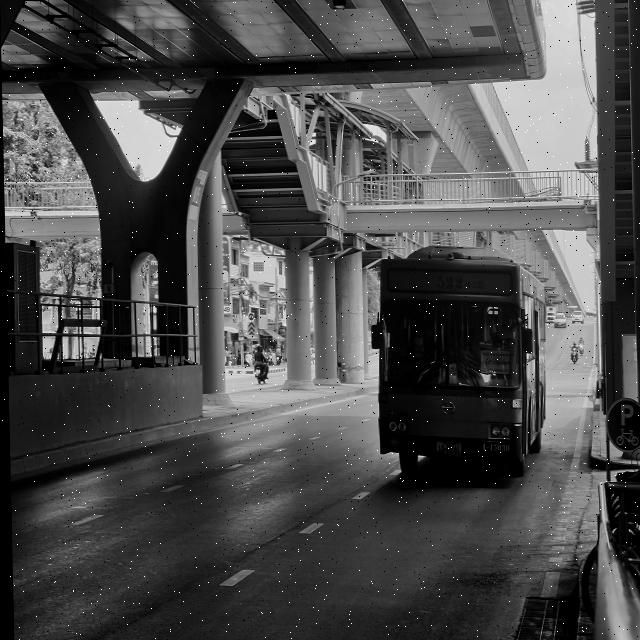BMTA-bus: (368, 253, 546, 484)
Bus-Line-Number: (431, 272, 484, 295)
Destination-Sign-Normal-Expressway: (478, 350, 509, 374)
